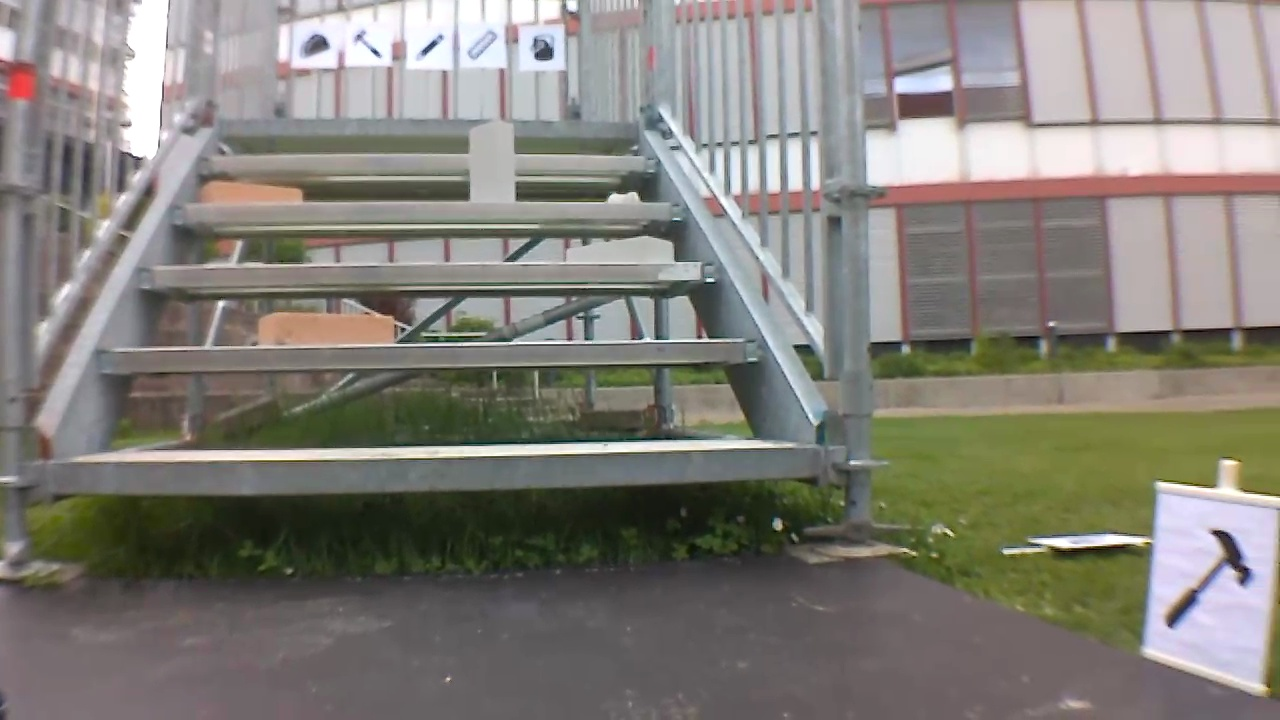brick: (258, 312, 394, 344), (470, 119, 515, 201), (566, 235, 673, 263), (196, 181, 299, 203)
bucket: (522, 28, 557, 65)
edge: (52, 447, 815, 492), (98, 339, 759, 368), (139, 260, 723, 285), (171, 202, 687, 220), (199, 153, 655, 170), (219, 117, 638, 135)
hammer: (1158, 521, 1262, 639), (347, 23, 385, 61)
pencil: (406, 29, 448, 63)
ruler: (460, 26, 500, 62)
stairs: (4, 1, 909, 571)
steps: (48, 111, 825, 506)
taco: (295, 28, 334, 61)
